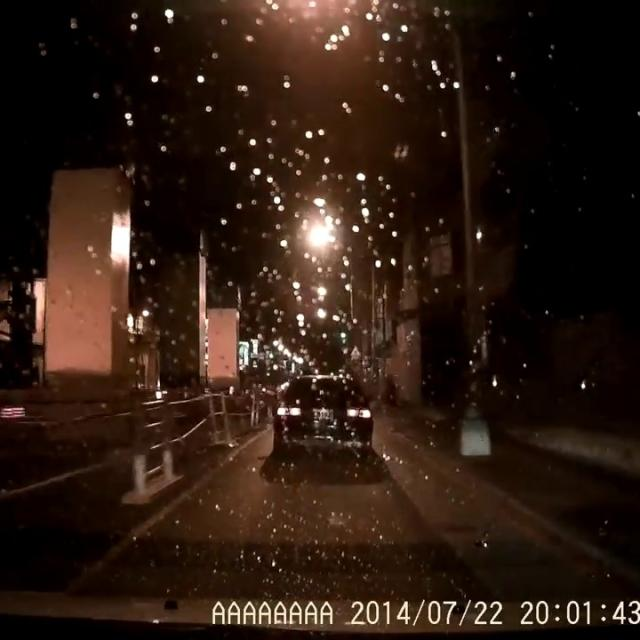Car: (269, 371, 373, 456)
